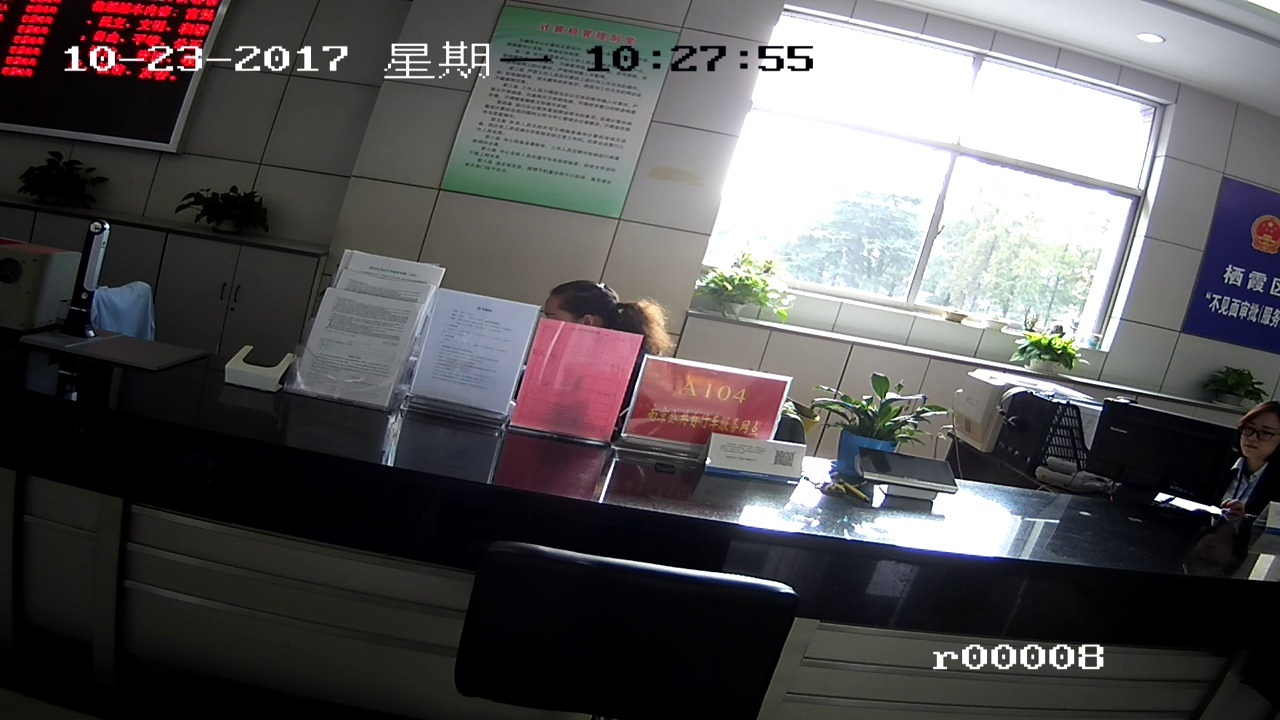billboard: (472, 7, 642, 236), (636, 363, 769, 458), (1207, 188, 1272, 341)
chair: (462, 548, 806, 706)
pot: (830, 362, 921, 488), (697, 255, 754, 321), (1026, 320, 1072, 374), (1199, 358, 1243, 399)
